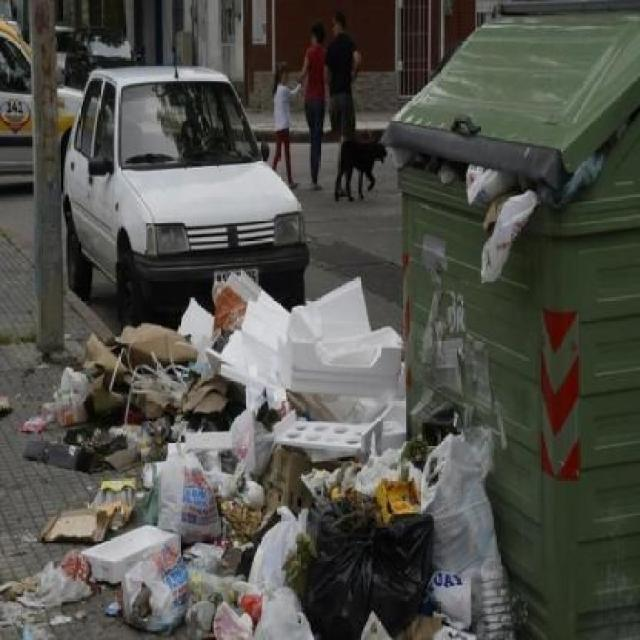garbage: (8, 265, 526, 639), (463, 165, 534, 272)
